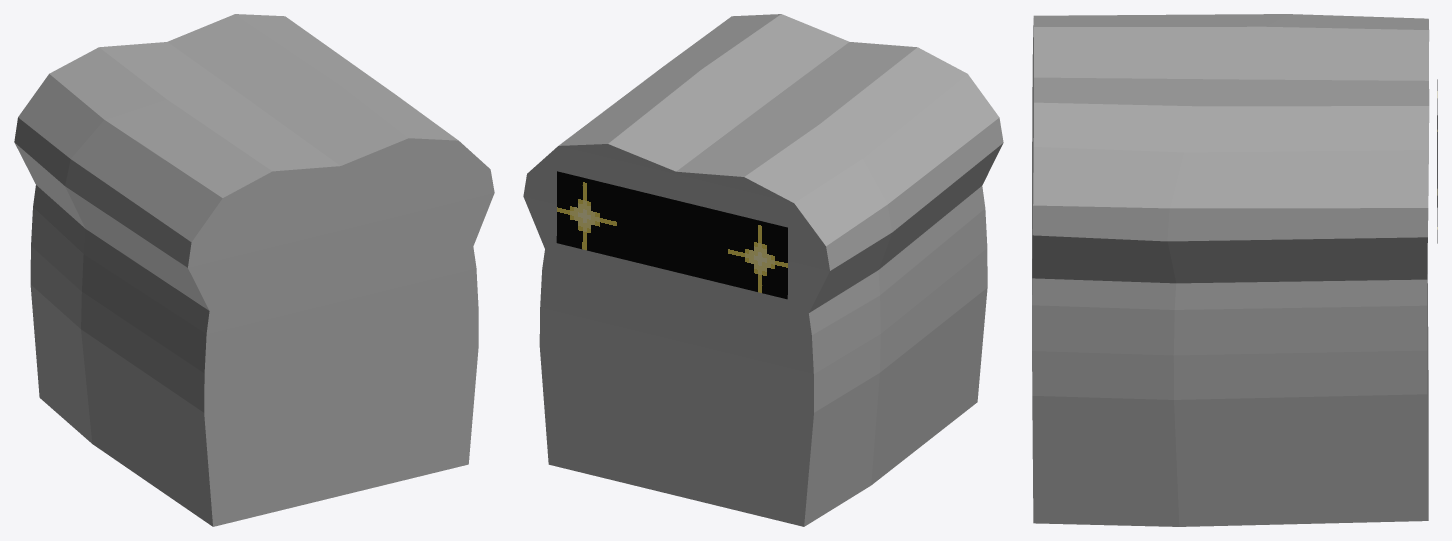
The model's file is bread.fbx.
The picture shows the model from 3 angles, left to right: view 1: azimuth 30°, elevation 25°; view 2: azimuth 150°, elevation 25°; view 3: azimuth 270°, elevation 25°; orthographic projection. The views are drawn at different scales.
Visible parts, largest first — view 1: body; view 2: body, eyes; view 3: body.
Part boxes in pixels (x1=…): body: x1=14, y1=14, x2=494, y2=526; body: x1=523, y1=14, x2=1003, y2=526; eyes: x1=556, y1=171, x2=787, y2=299; body: x1=1032, y1=14, x2=1429, y2=526.
Size of the model in its own units: 4.63 by 4.76 by 4.51.
